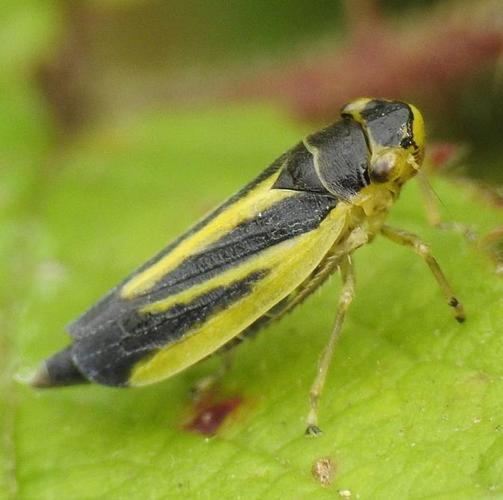Cicadellidae: (20, 98, 424, 390)
